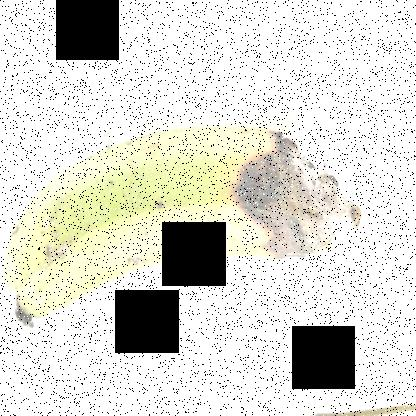rotten: (204, 124, 368, 273)
unripe: (12, 99, 233, 329)
